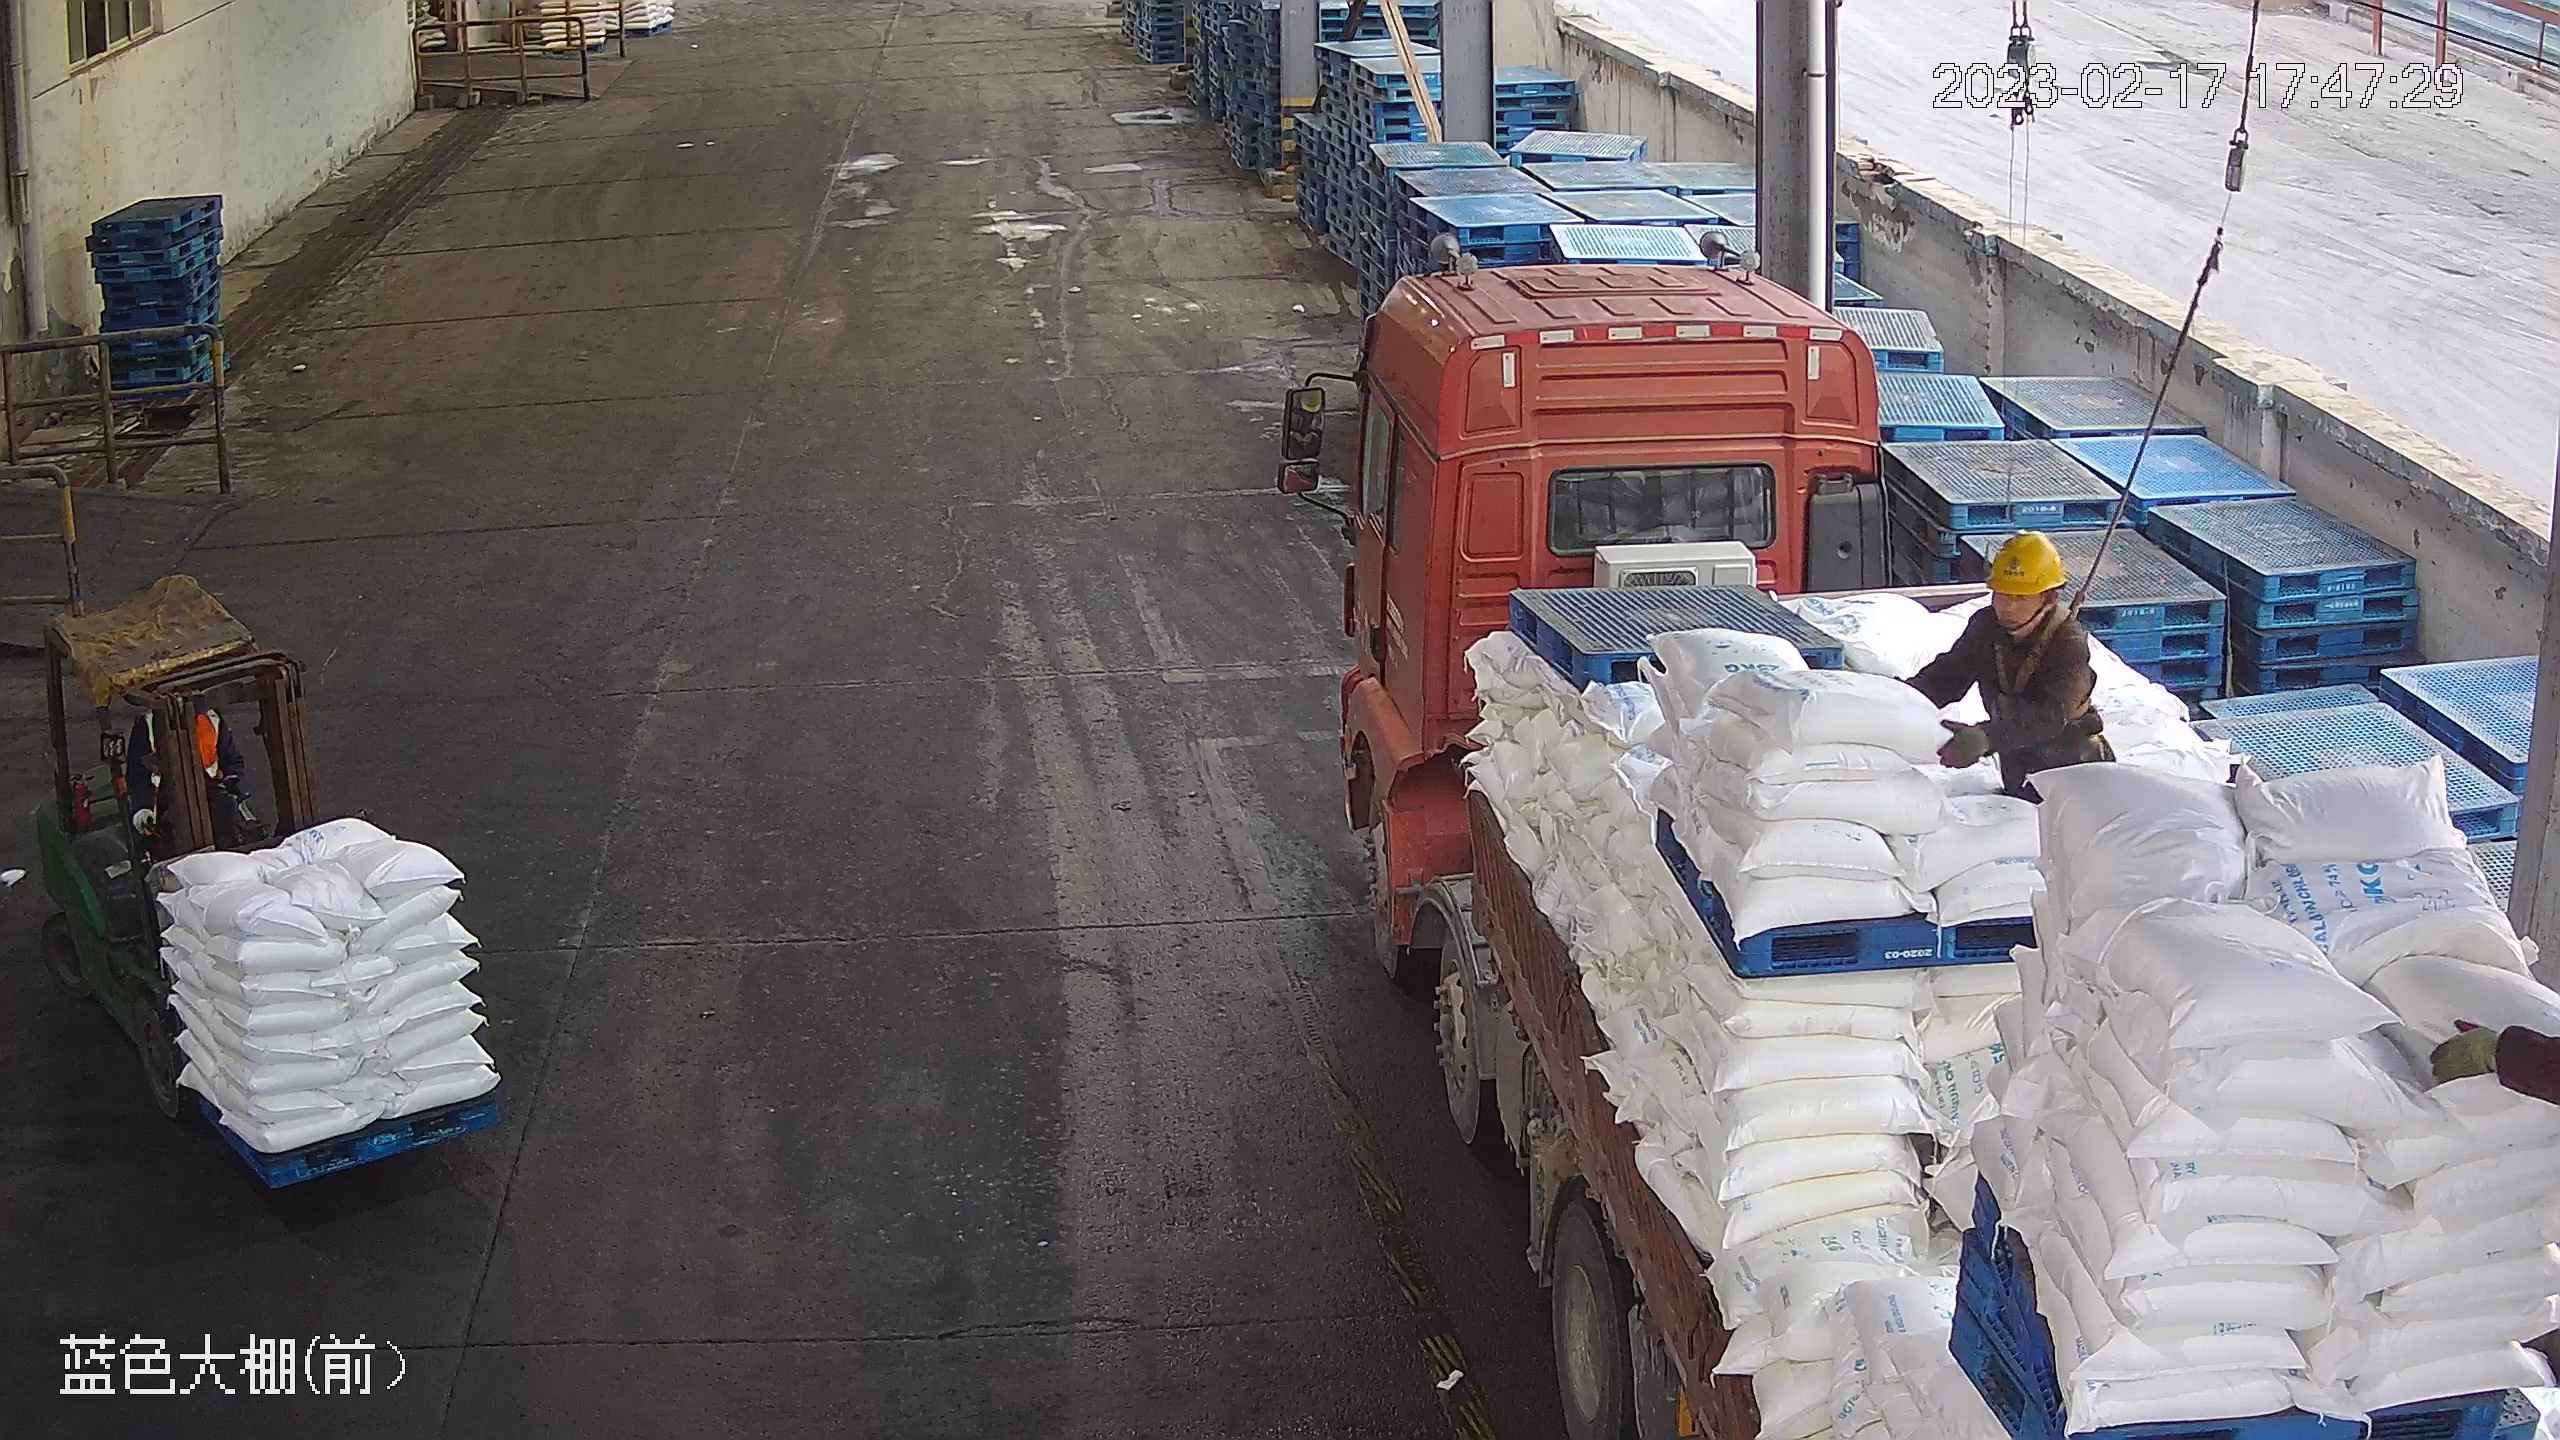belt: (1985, 612, 2082, 699)
head: (1964, 526, 2088, 670)
helmet: (1983, 527, 2067, 596)
people: (1899, 525, 2113, 812)
truck: (1303, 183, 2559, 1439)
